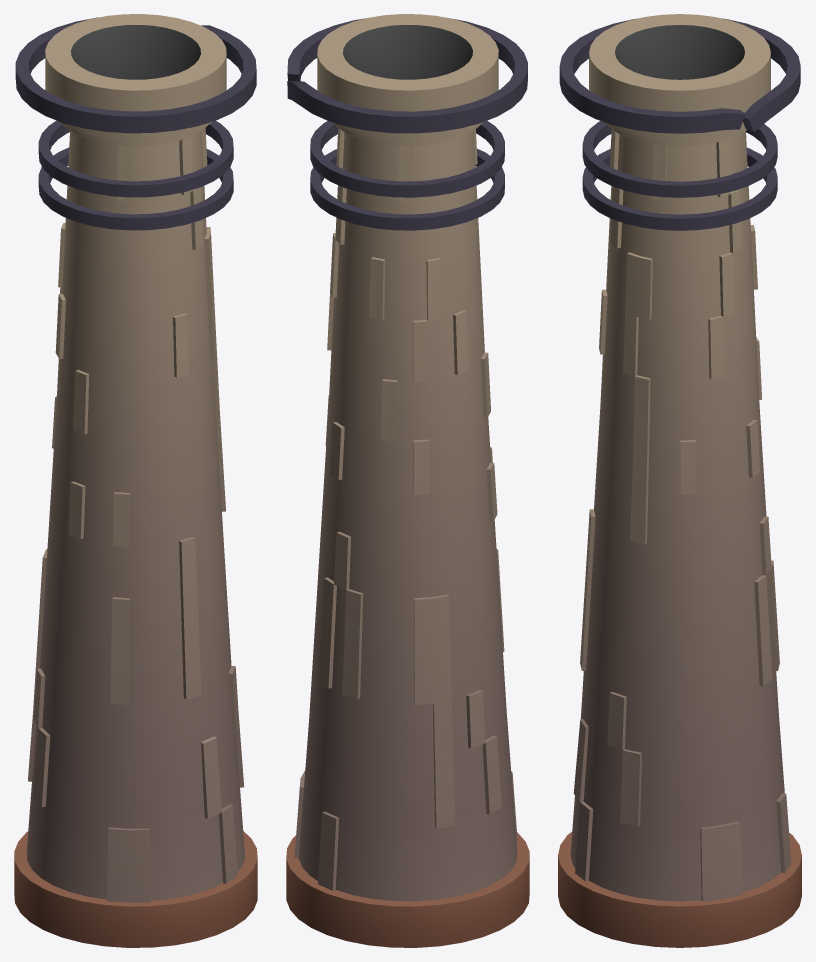
File: BuildingTube.fbx
3 renders of one model, left to right at view 1: azimuth 30°, elevation 25°; view 2: azimuth 150°, elevation 25°; view 3: azimuth 270°, elevation 25°, orthographic.
Parts seen in each view (by area): view 1: BuildingTube; view 2: BuildingTube; view 3: BuildingTube.
Part boxes in pixels (<box>): BuildingTube: <box>14,14,257,947</box>; BuildingTube: <box>286,14,529,947</box>; BuildingTube: <box>558,14,801,947</box>.
Bounding box in the file's own units: 576 × 2198 × 576.
